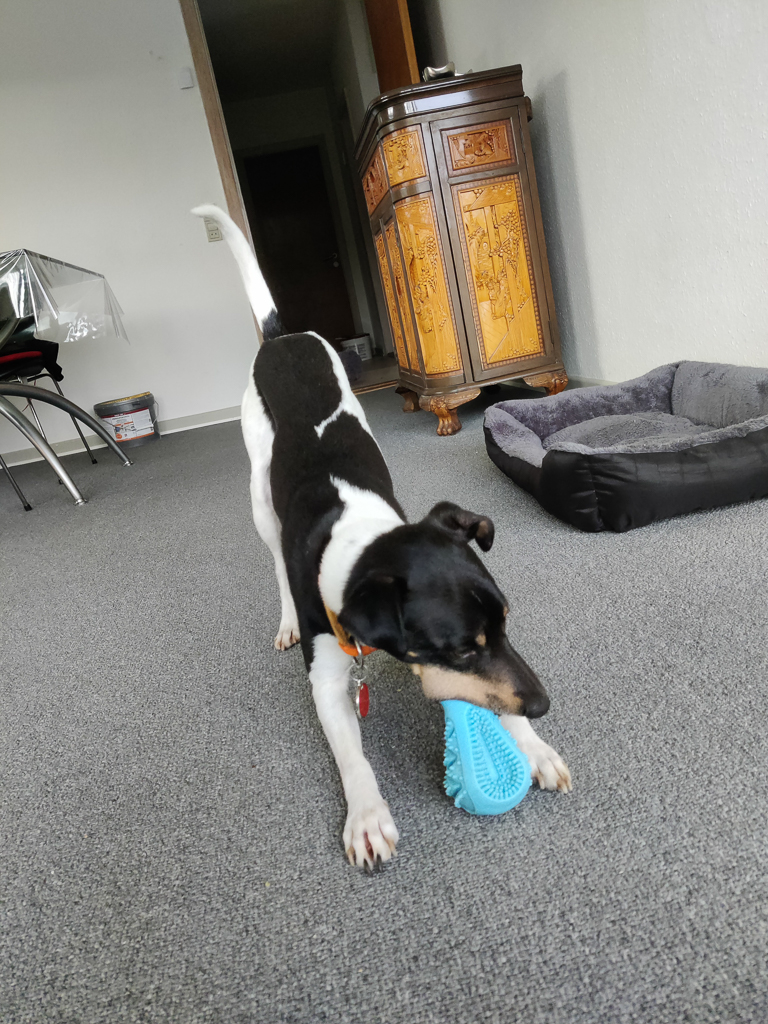Dog: (166, 182, 586, 887)
